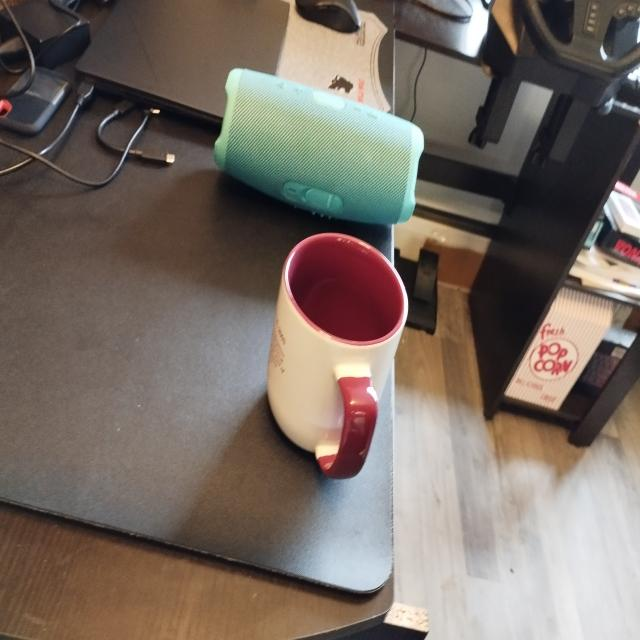Cup: (270, 232, 412, 491)
